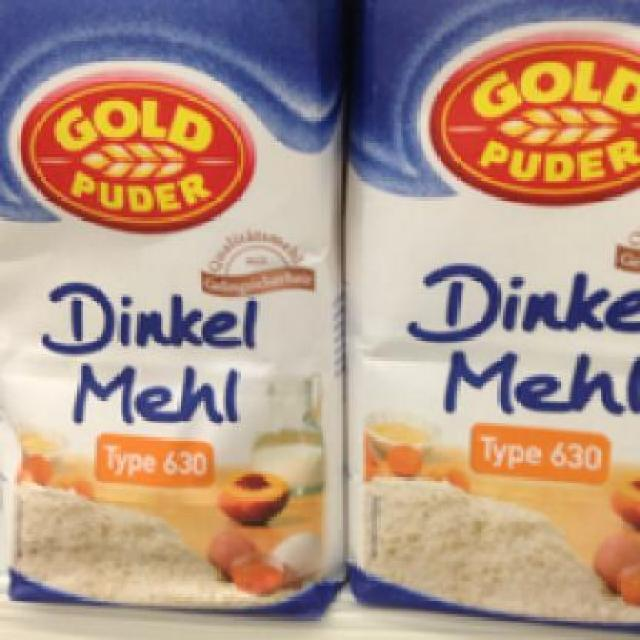Flour: (0, 0, 349, 617), (340, 2, 637, 632)
